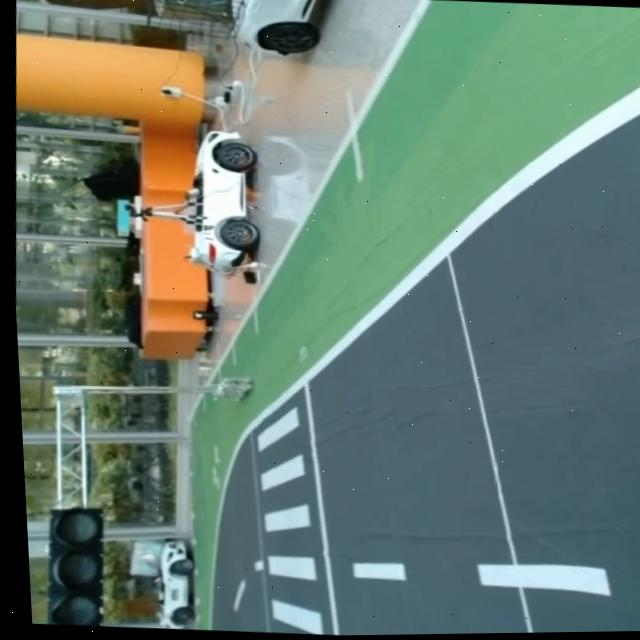traffic-light: (43, 499, 112, 627)
